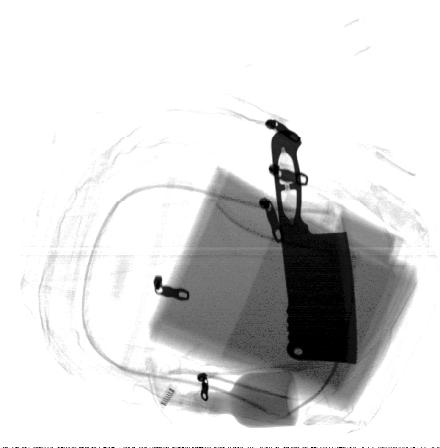Knife: (270, 127, 359, 366)
